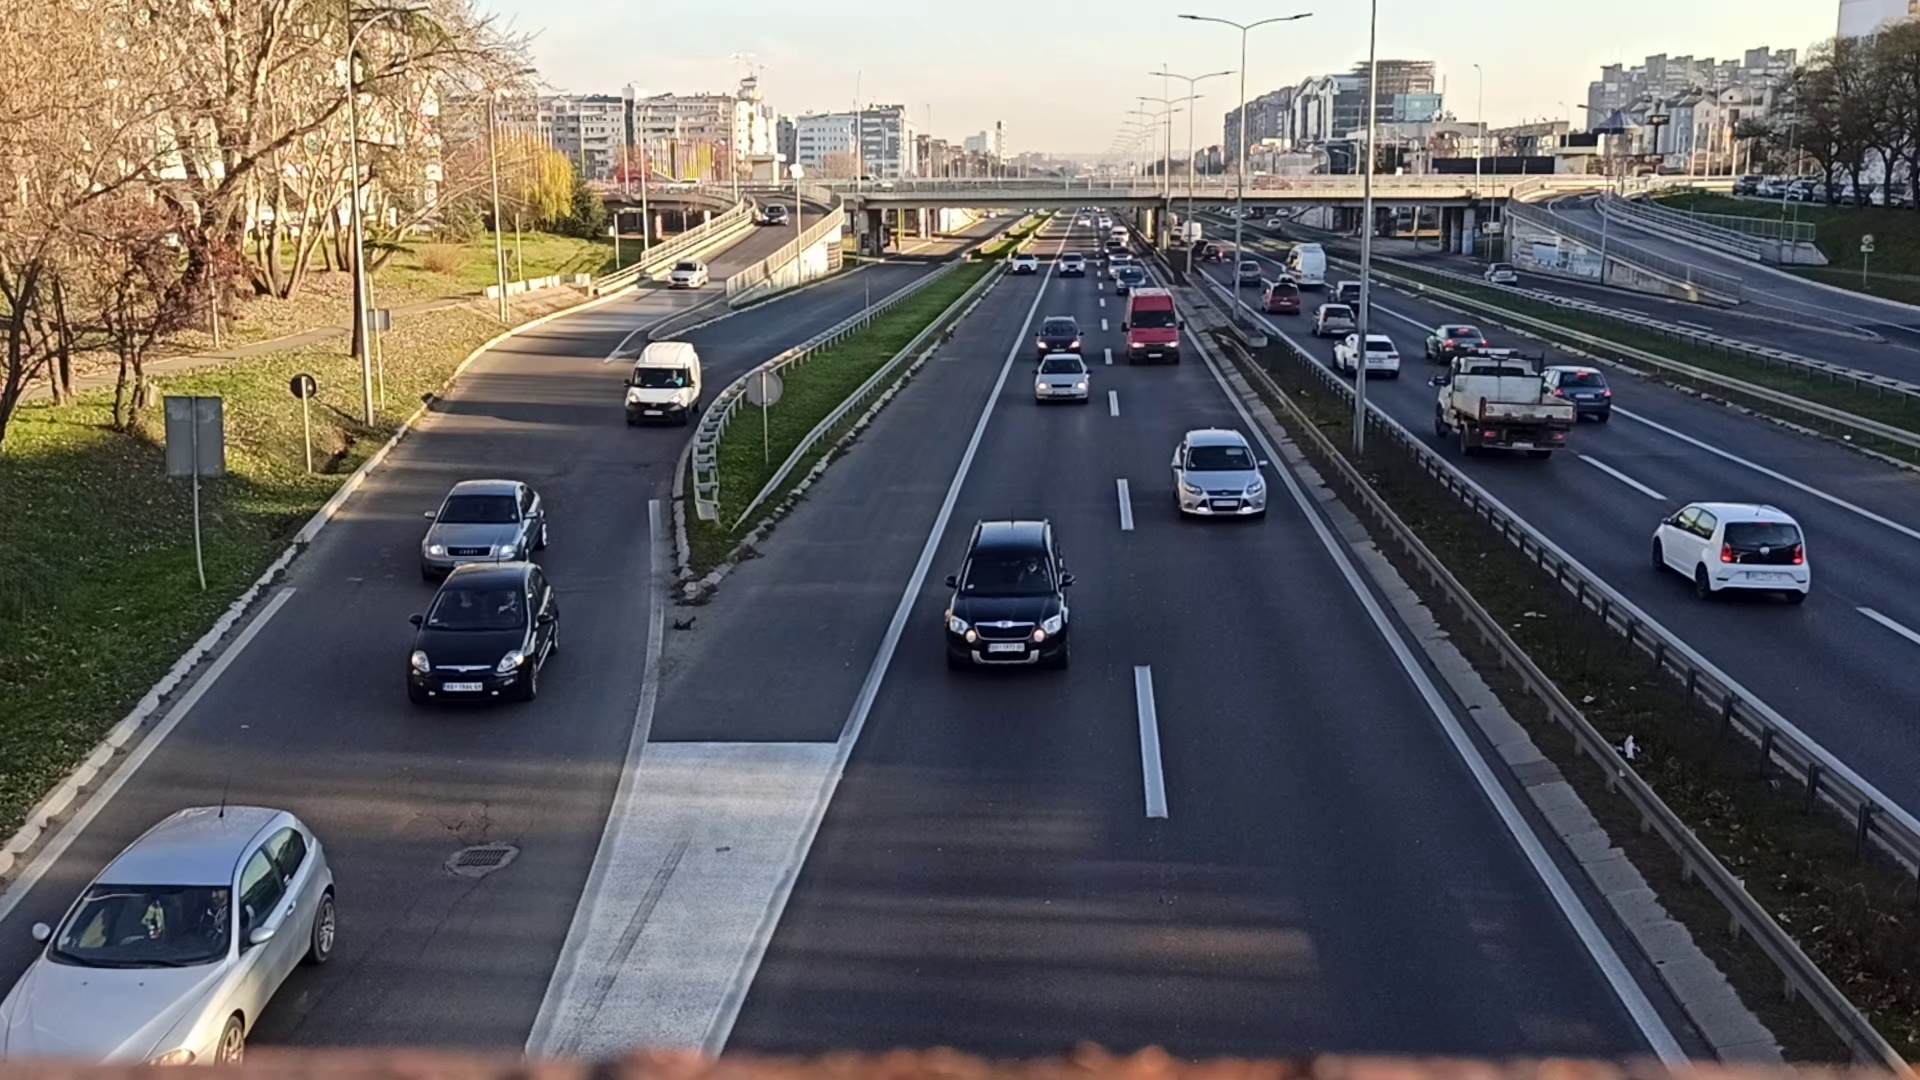car: (1, 793, 336, 1062), (410, 564, 560, 707), (945, 516, 1069, 669), (1652, 498, 1811, 607), (423, 476, 549, 582), (1160, 425, 1271, 527), (1121, 285, 1182, 363), (1540, 364, 1617, 419), (1335, 330, 1400, 377), (1423, 318, 1490, 361), (1035, 352, 1091, 400), (1040, 314, 1084, 353), (1312, 302, 1356, 339)
truck: (1429, 353, 1572, 464)
van: (629, 344, 702, 426)
